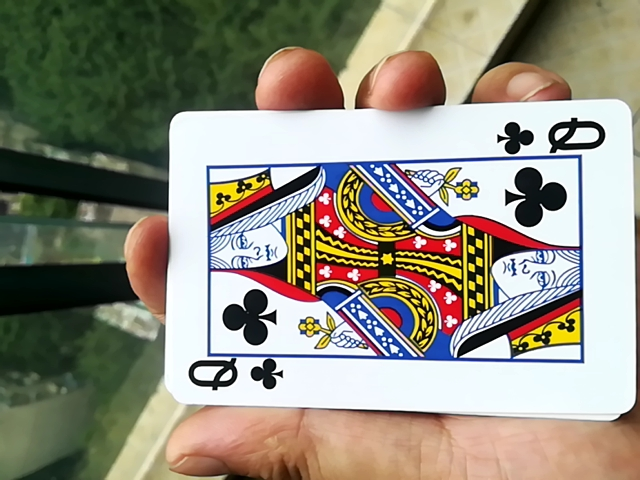mh q: (152, 105, 637, 425)
